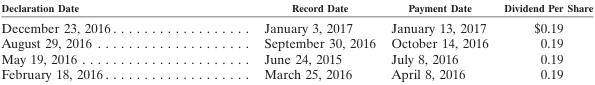table: (0, 1, 592, 81)
table column: (189, 1, 382, 81), (0, 1, 189, 81), (382, 1, 495, 81), (495, 1, 592, 81)
table column header: (0, 1, 592, 16)
table row: (0, 16, 592, 34), (0, 34, 592, 50), (0, 50, 592, 66), (0, 1, 592, 16), (0, 66, 592, 81)
